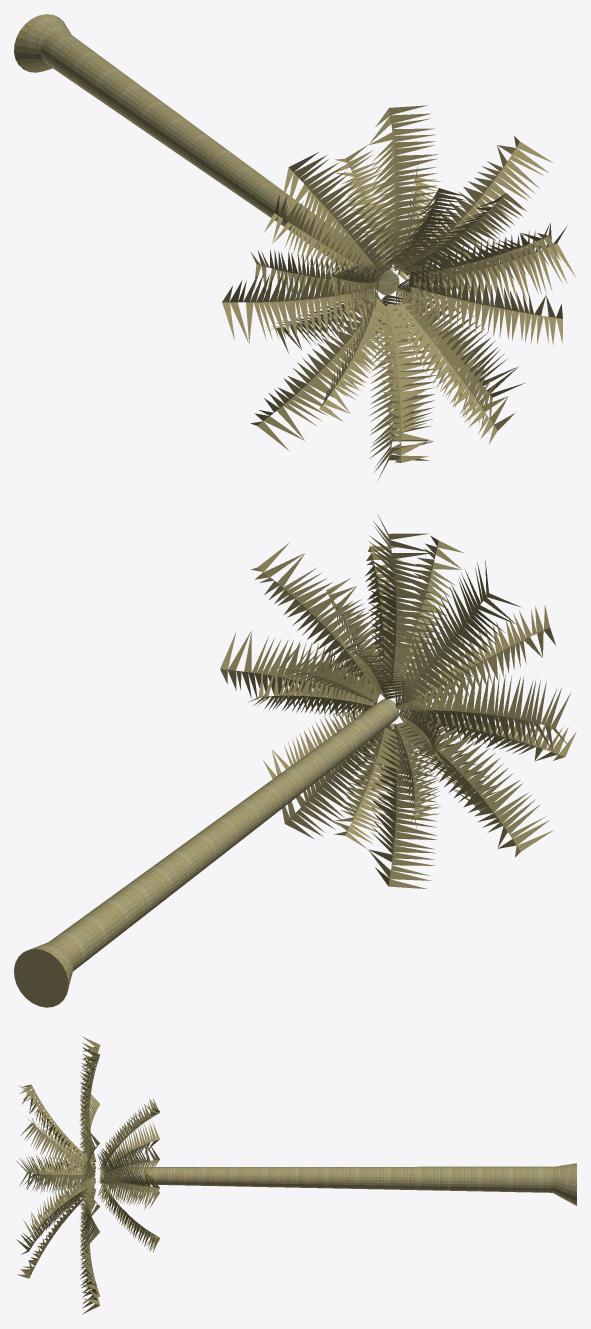
File: palm_tree.dae
3 renders of one model, top to bottom at view 1: azimuth 30°, elevation 25°; view 2: azimuth 150°, elevation 25°; view 3: azimuth 270°, elevation 25°, orthographic. The views are drawn at different scales.
Parts seen in each view (by area): view 1: node; view 2: node; view 3: node.
Part boxes in pixels (<box>): node: <box>14,14,575,481</box>; node: <box>14,514,576,1007</box>; node: <box>16,1036,576,1314</box>.
Size of the model in its own units: 267 by 271 by 552.
Materials: 1 (1 with a texture image).
